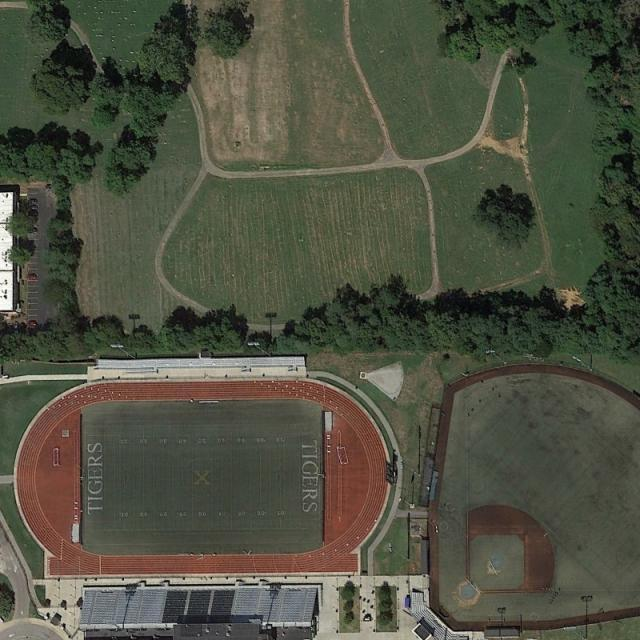vehicle: (26, 274, 36, 280), (27, 228, 38, 233), (28, 199, 38, 204), (29, 206, 38, 210), (30, 210, 38, 214), (28, 322, 36, 326)
